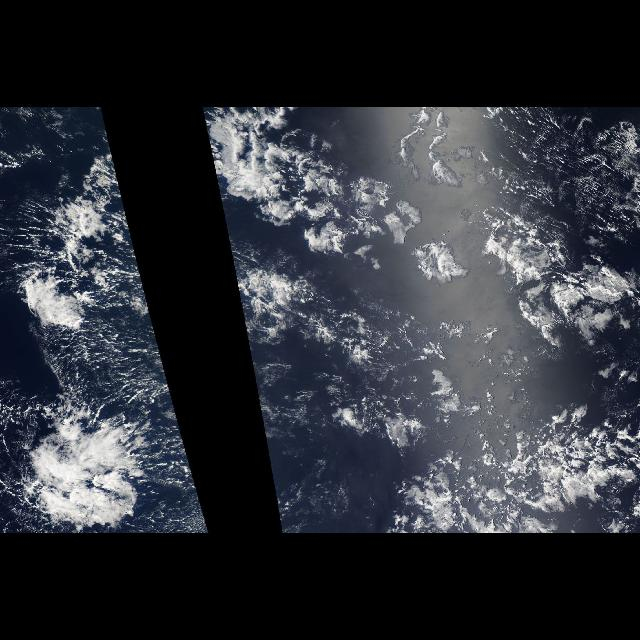Fish: (200, 108, 640, 368)
